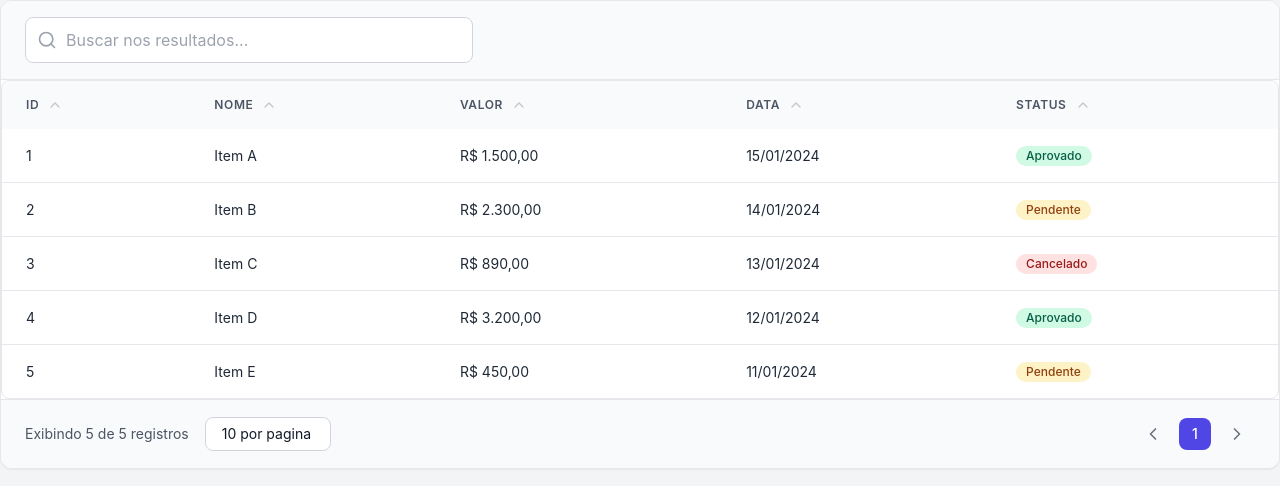
DataTable › Sorting › should toggle sort direction on second click
Note: First click - ascending
Click the column heading "Nome" at x=234, y=104, box [190,81,436,129]
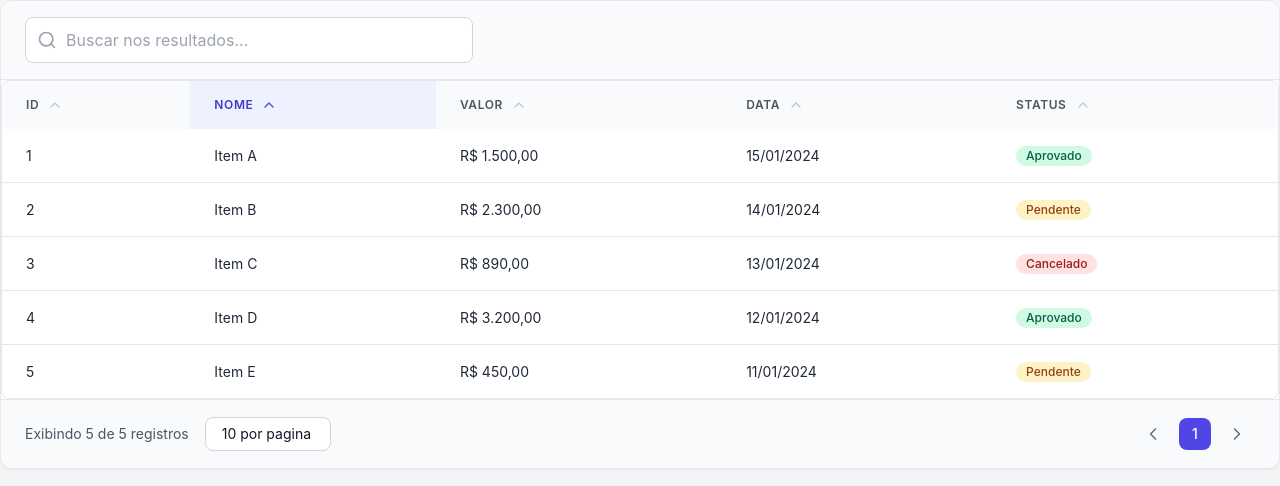
Note: Second click - descending
Click the column heading "Nome" at x=313, y=105, box [190,81,436,129]
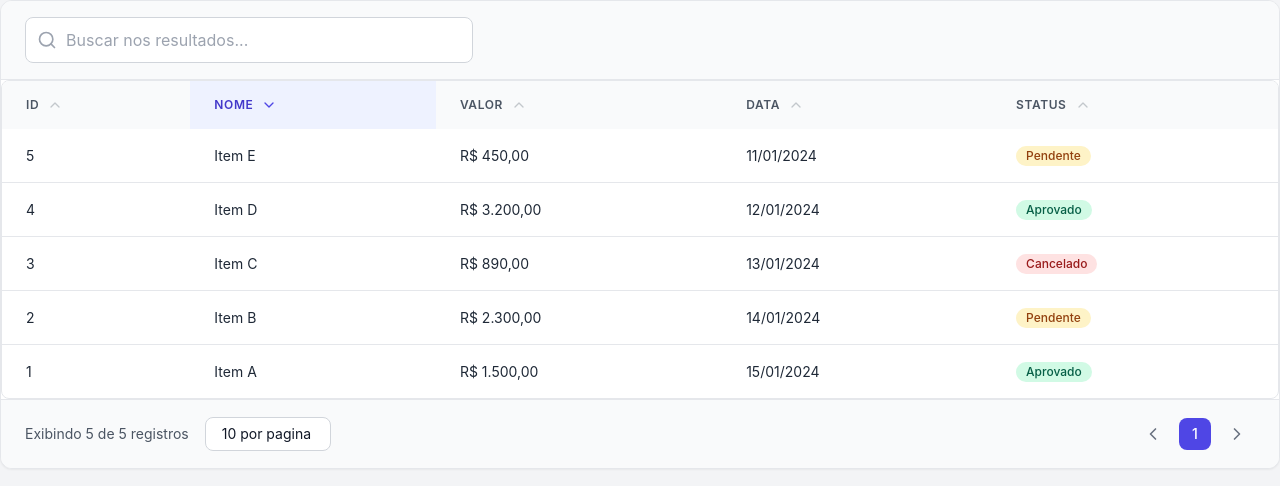
Now the cell "Item E" is shown, box [190,129,436,182]
